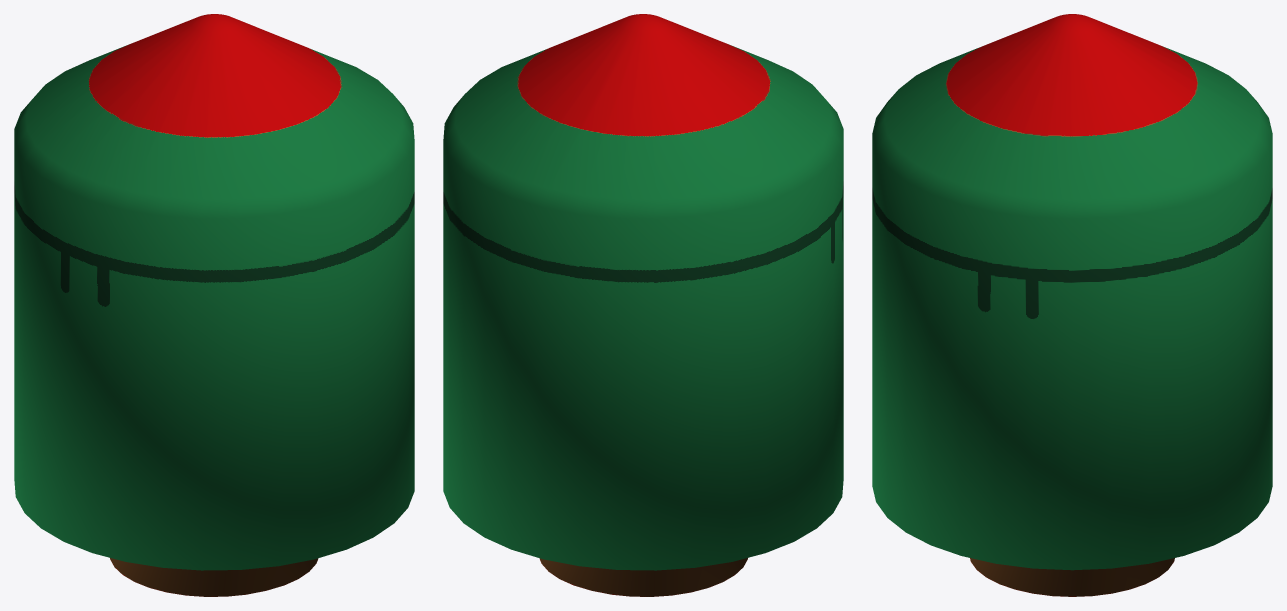
File: GiantBom_v2.fbx
3 renders of one model, left to right at view 1: azimuth 30°, elevation 25°; view 2: azimuth 150°, elevation 25°; view 3: azimuth 270°, elevation 25°, orthographic.
Parts seen in each view (by area): view 1: 円柱; view 2: 円柱; view 3: 円柱.
Part boxes in pixels (bbox=[...]): 円柱: bbox=[14, 14, 414, 596]; 円柱: bbox=[443, 14, 843, 596]; 円柱: bbox=[872, 14, 1272, 596].
Bounding box in the file's own units: 2 × 2 × 2.96.
Materials: 1 (1 with a texture image).
